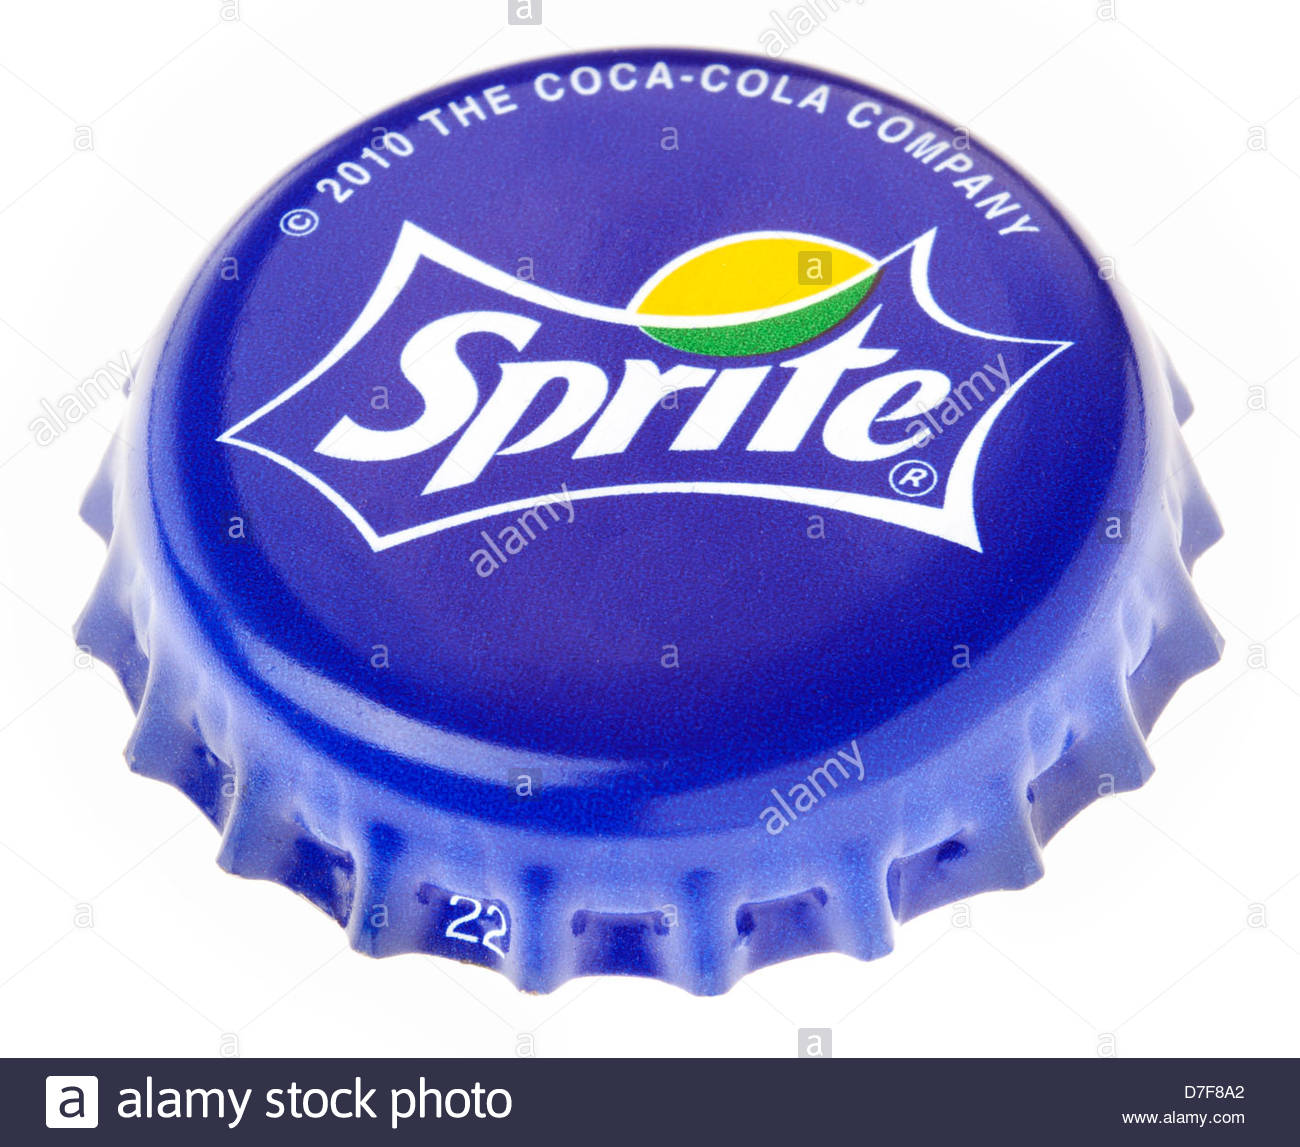sprite: (308, 301, 949, 492), (308, 301, 949, 455)
